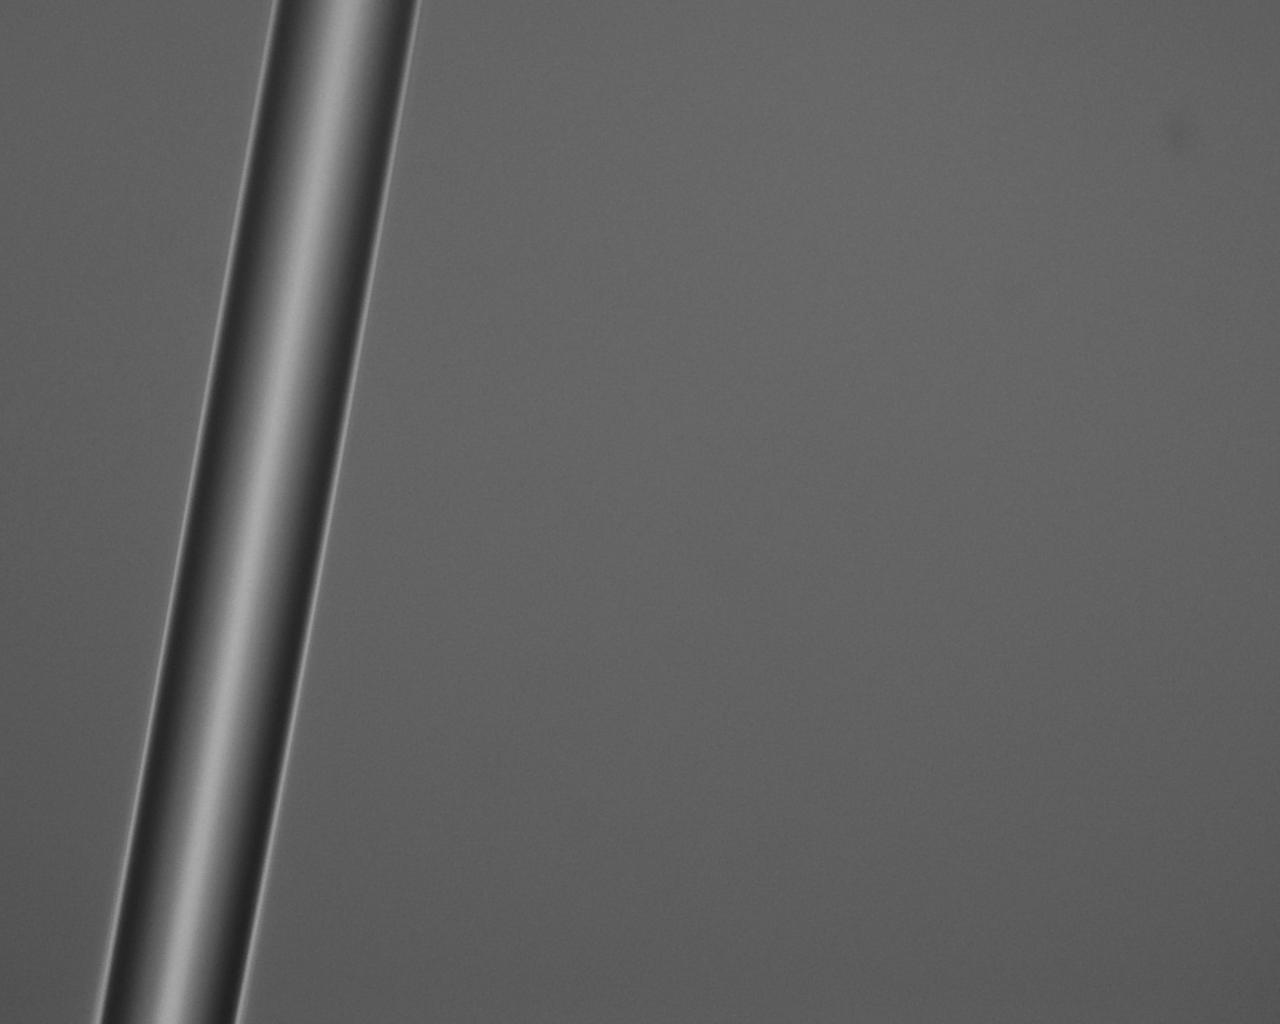fiber: (702, 0, 800, 1024)
